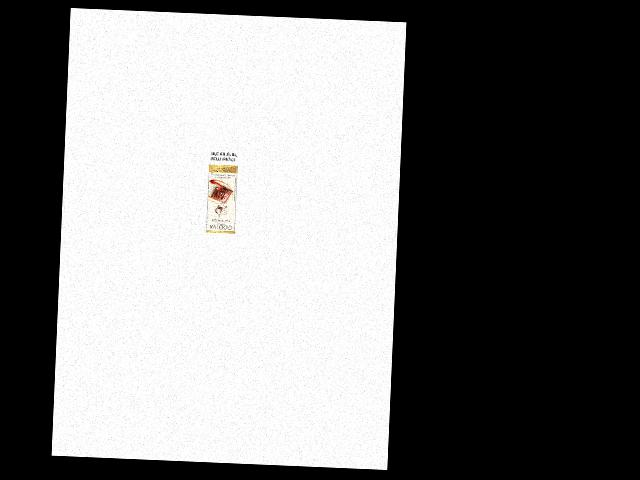chocolate: (203, 161, 237, 235)
